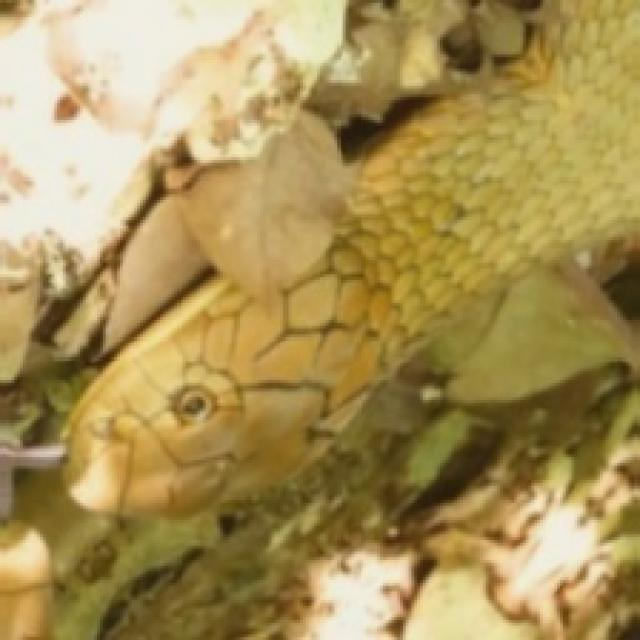king cobra: (46, 0, 637, 511)
